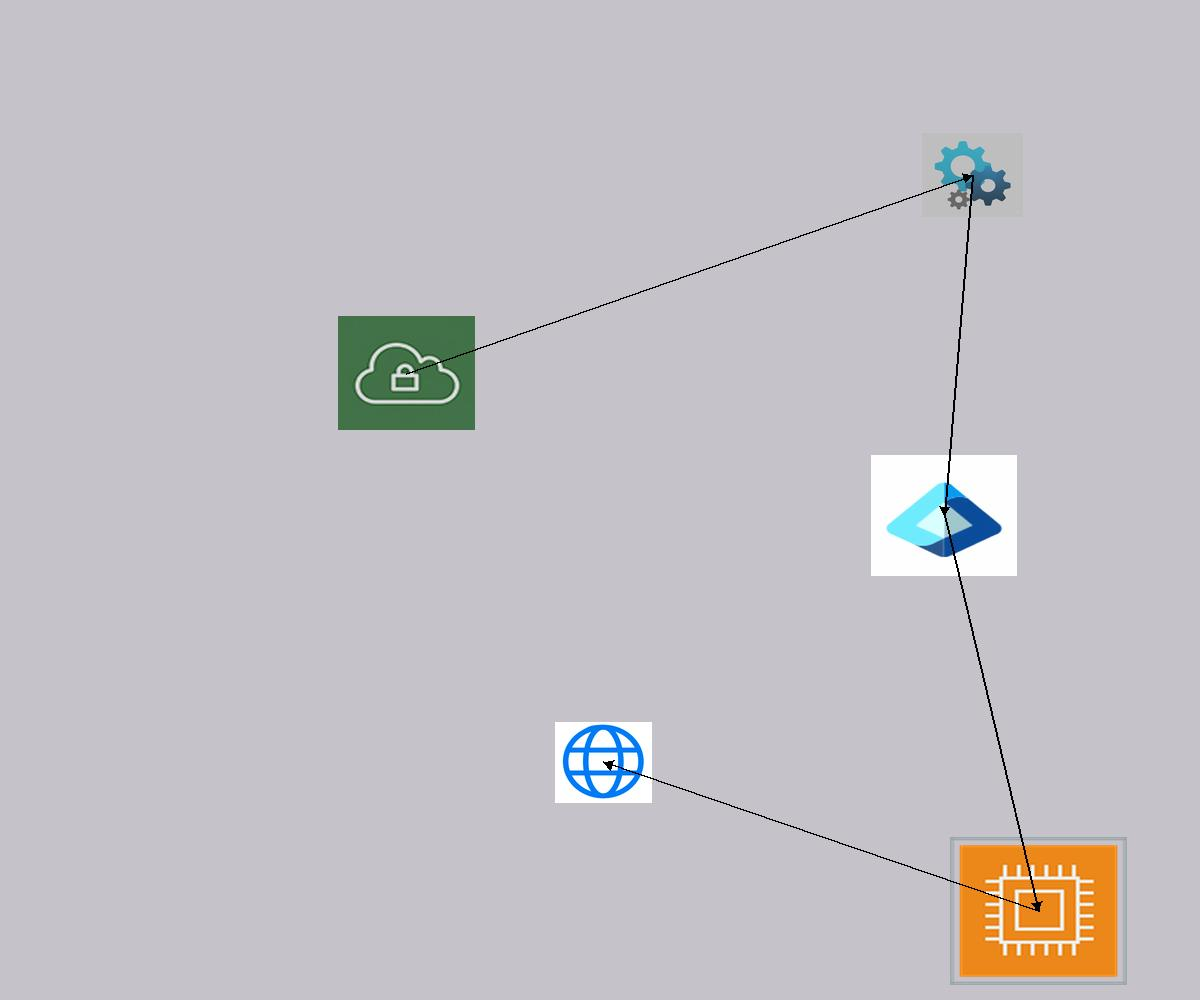AWS-Category_Compute: (950, 837, 1127, 985)
AWS-Private_vpc: (338, 316, 475, 430)
Azure_api: (922, 133, 1023, 217)
Azure_http: (555, 722, 652, 803)
Azure_microsoft_entra: (871, 455, 1017, 576)
